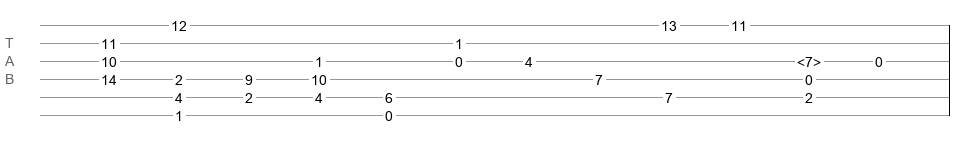0: (385, 108, 393, 118), (455, 54, 463, 64), (805, 72, 813, 82), (875, 54, 883, 64)
1: (175, 108, 183, 118), (315, 54, 323, 64), (455, 36, 463, 46)
10: (101, 54, 117, 64), (311, 72, 327, 82)
11: (101, 36, 117, 46), (731, 18, 747, 28)
12: (171, 18, 187, 28)
13: (661, 18, 677, 28)
14: (101, 72, 117, 82)
2: (175, 72, 183, 82), (245, 90, 253, 100), (805, 90, 813, 100)
4: (175, 90, 183, 100), (315, 90, 323, 100), (525, 54, 533, 64)
6: (385, 90, 393, 100)
7: (595, 72, 603, 82), (665, 90, 673, 100)
9: (245, 72, 253, 82)
harmonic: (797, 54, 821, 64)
